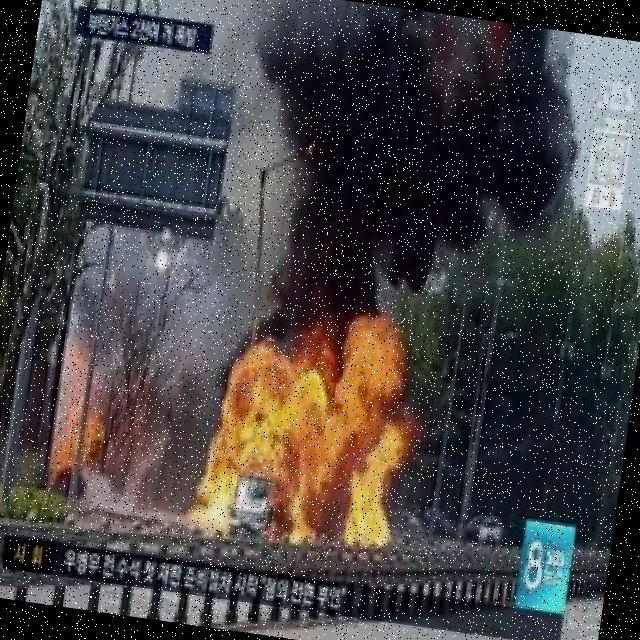Fire: (204, 341, 405, 547), (52, 401, 96, 466)
